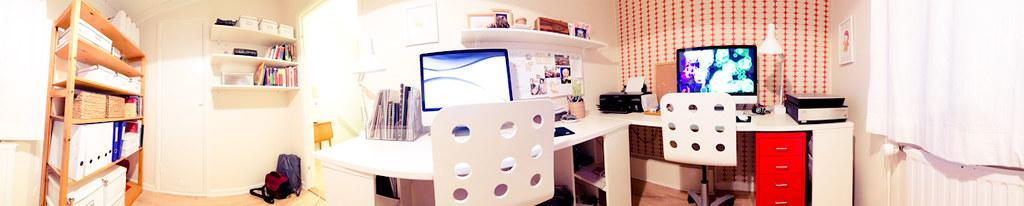computer: (419, 49, 514, 125), (676, 45, 759, 108)
